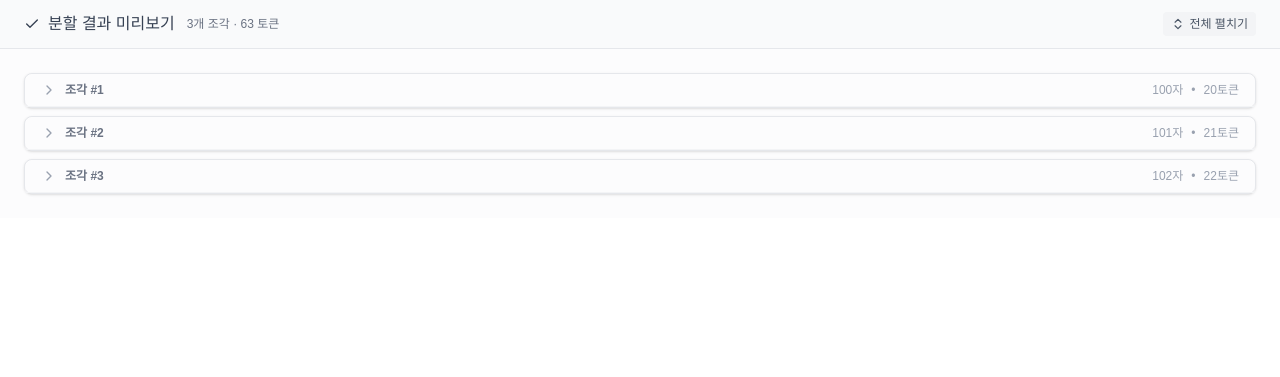
ChunkPreviewList › Collapsible 기능 › 전체 펼치기 버튼 클릭 시 모든 조각이 펼쳐진다
# 전체 펼치기 클릭
Click the button "전체 펼치기". click: [1210, 24]
box: [1164,12,1256,36]
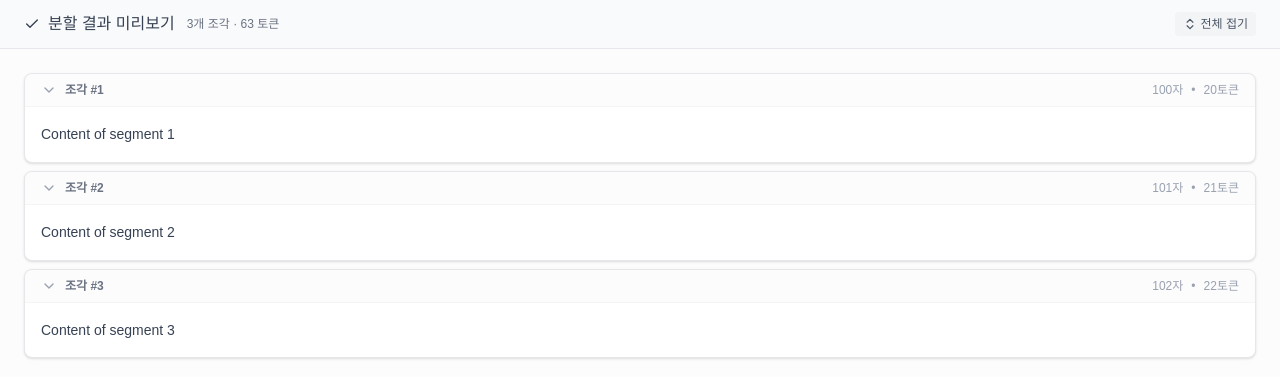
Now the text "Content of segment 1" is shown, box [41,126,175,142]
Now the text "Content of segment 2" is shown, box [41,224,175,240]
Now the text "Content of segment 3" is shown, box [41,322,175,338]
